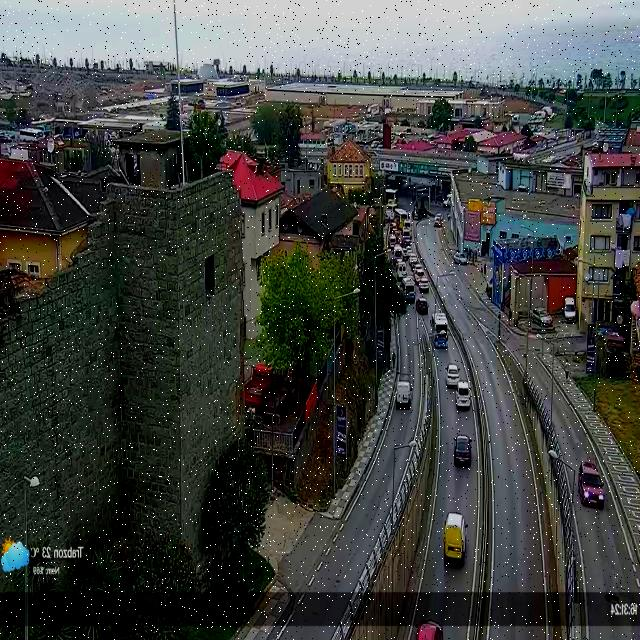car: (440, 509, 469, 567), (578, 461, 604, 511), (453, 431, 473, 467), (454, 382, 472, 409)
